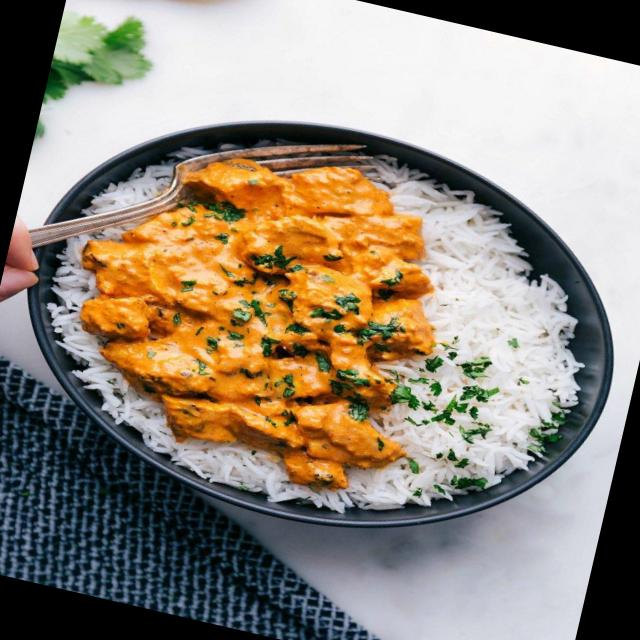chicken: (49, 138, 388, 464)
rice: (364, 223, 591, 525)
